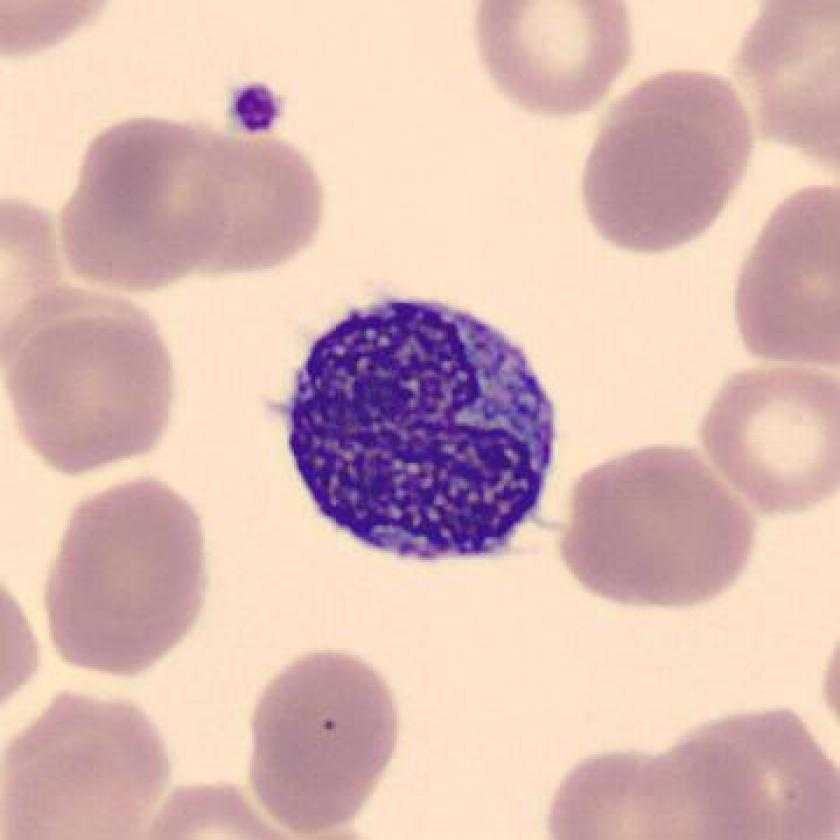monocyte: (255, 279, 594, 593)
